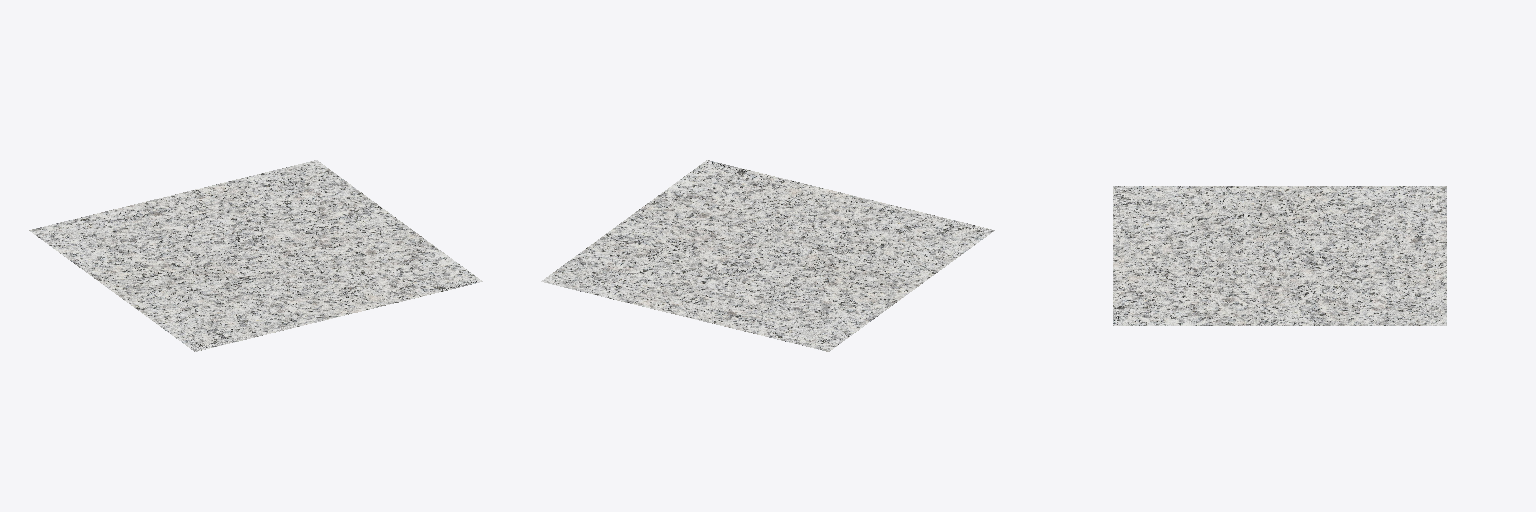
3 renders of one model, left to right at view 1: azimuth 30°, elevation 25°; view 2: azimuth 150°, elevation 25°; view 3: azimuth 270°, elevation 25°, orthographic.
Parts seen in each view (by area): view 1: Plane001; view 2: Plane001; view 3: Plane001.
Boxes of the visible parts, box(x1,y1,x2,y2) form: Plane001: box(29, 160, 482, 351); Plane001: box(541, 160, 994, 351); Plane001: box(1113, 186, 1446, 325).
Bounding box in the file's own units: 6000 × 0 × 6000.
Materials: 1 (1 with a texture image).